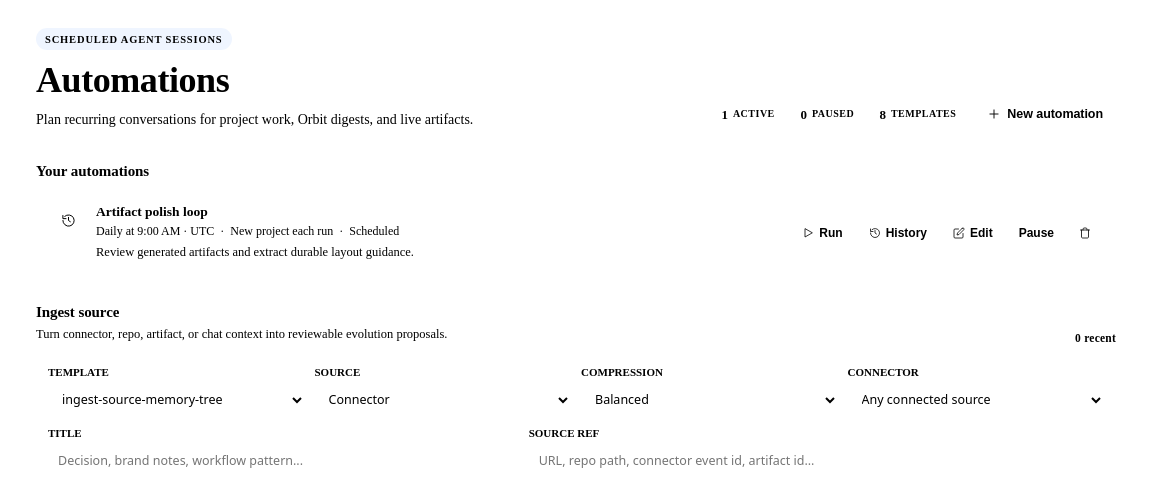
Test case: TasksView automation templates › crystallizes a successful automation run into reviewable proposals
Click the button "History" at {"x": 898, "y": 233}, box x1=859 y1=218 x2=937 y2=248
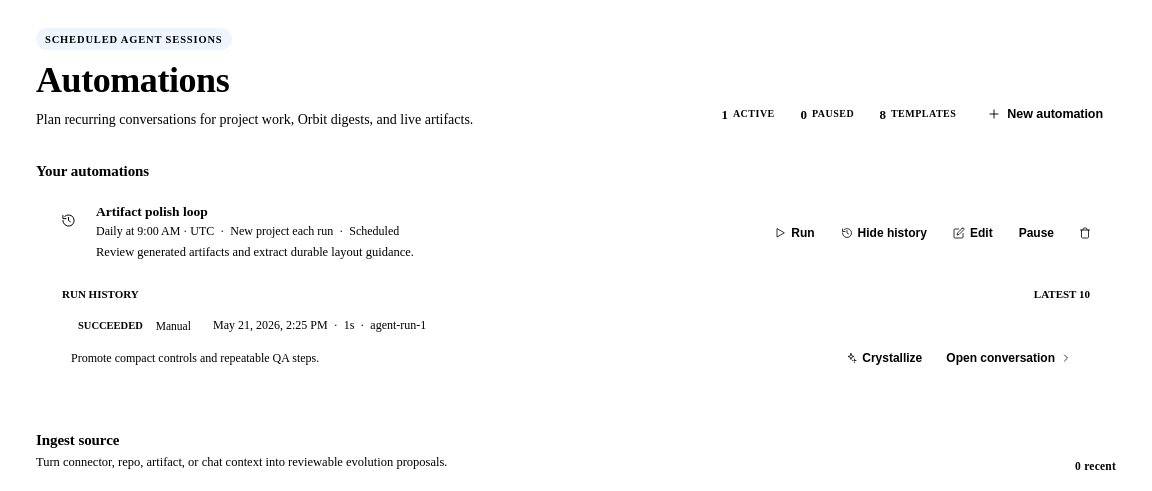
Click the button "Crystallize" at {"x": 884, "y": 358}, box x1=836 y1=344 x2=931 y2=372
(page scrolled)
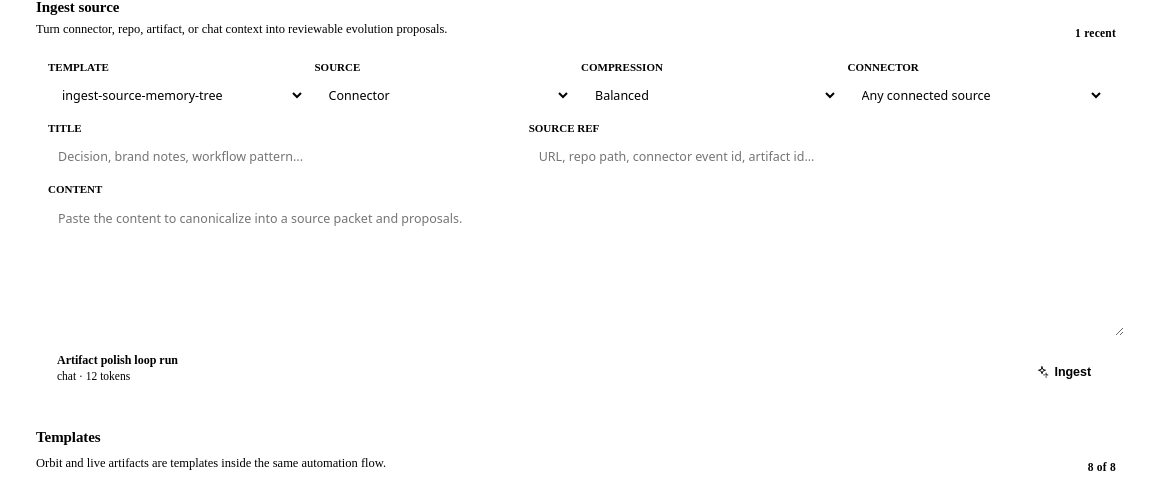
Check: the text "Artifact polish loop run" is shown, box x1=57 y1=353 x2=178 y2=368
